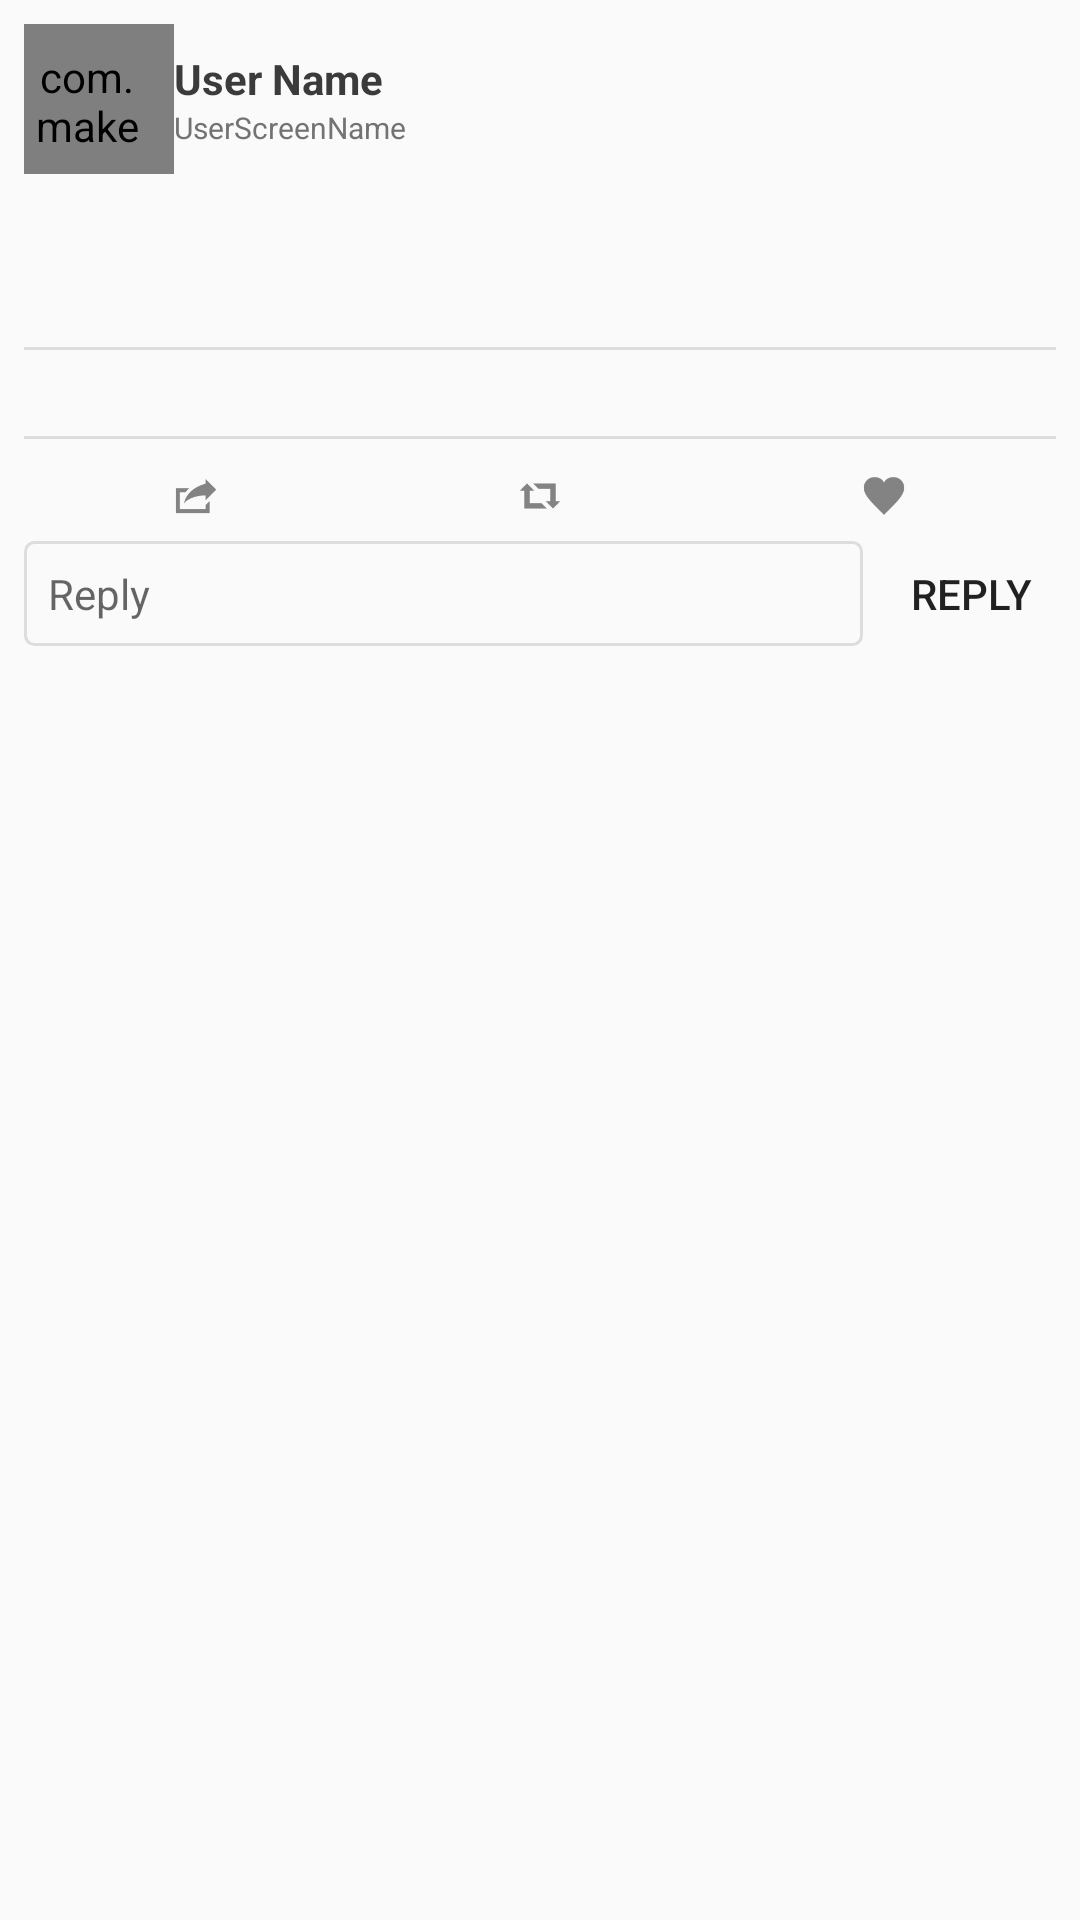

Icons on this 1080px×1920px Android screen, each with its box as (x1, y1, x2, y2):
favorite: (864, 477, 904, 515)
retweet: (520, 483, 560, 509)
share: (176, 479, 216, 513)
